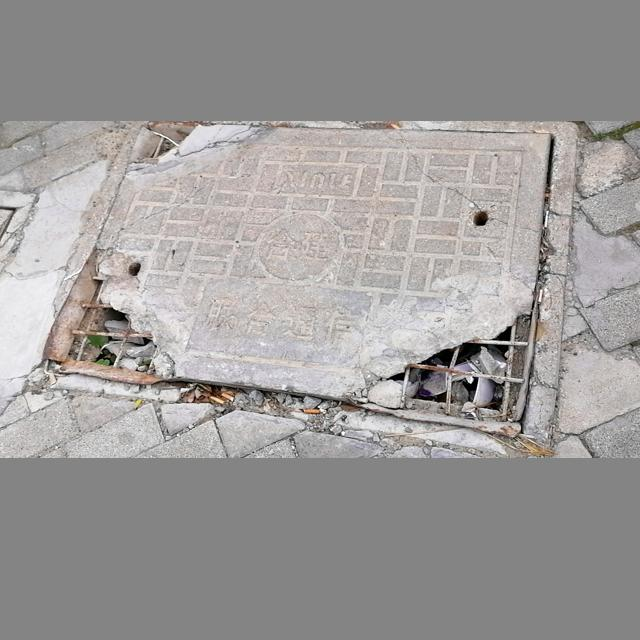broke: (60, 122, 549, 432)
